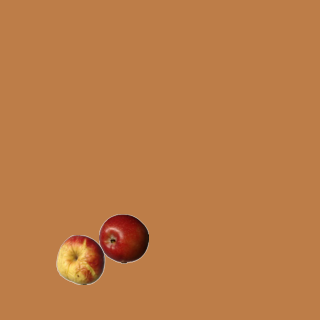Apple Braeburn: (98, 213, 148, 263)
Apple Red Yellow 1: (55, 234, 105, 284)
